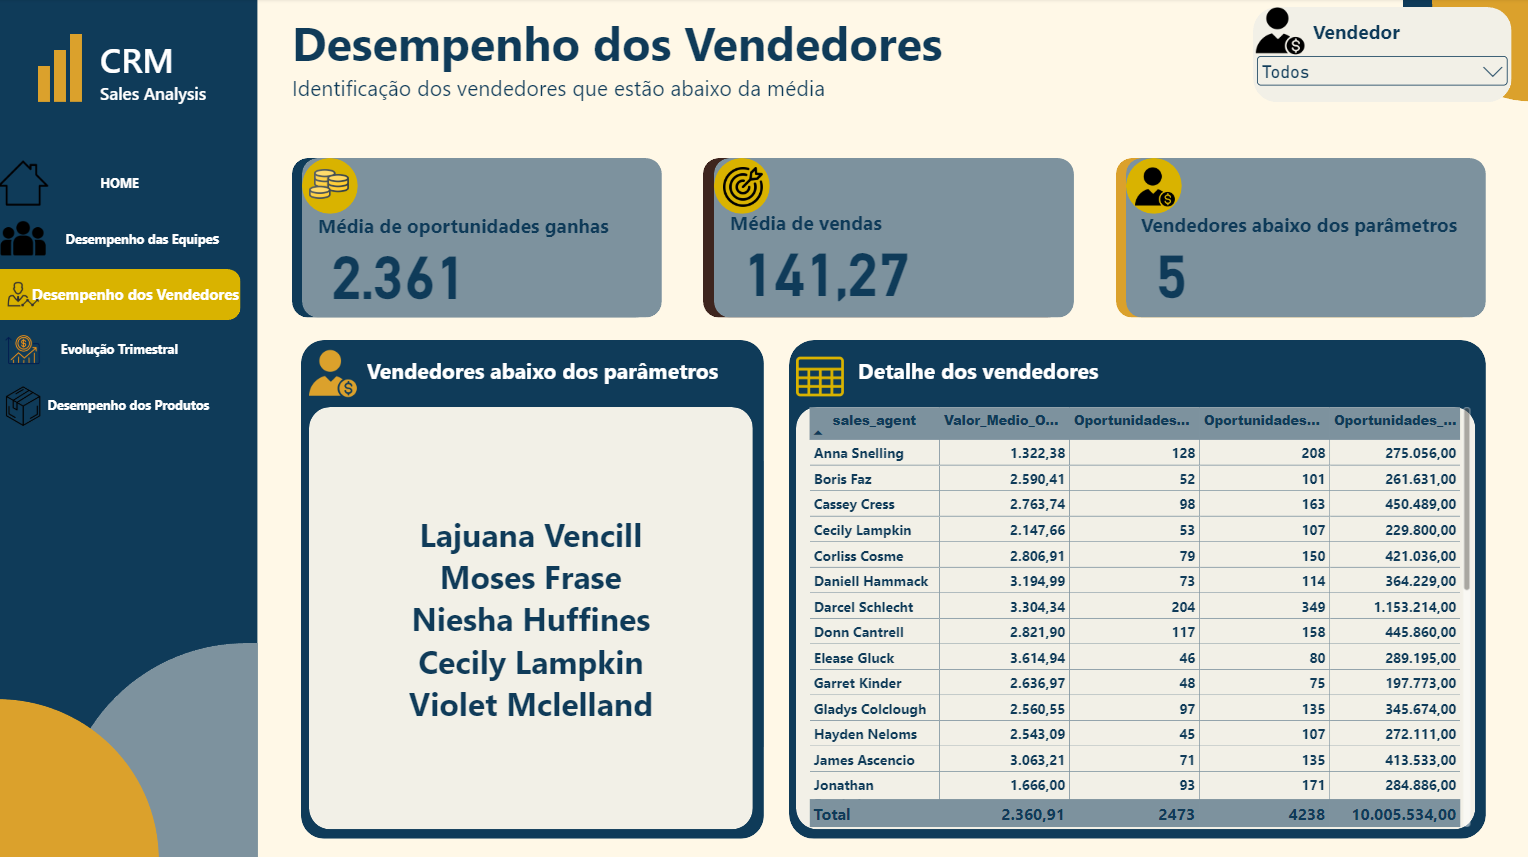

The dashboard page shown, as its layout file describes it:
{"tool":"powerbi","page":{"name":"Desempenho dos Vendedores","canvas":[1920,1080],"ordinal":2},"visuals":[{"type":"shape","box":[0,0,325,1080],"z":0,"group":"g1"},{"type":"group","id":"g1","title":"obj menu","box":[0,0,325,1080],"z":0,"group":"g16"},{"type":"shape","title":"Fundo","box":[0,0,1920,1080],"z":0},{"type":"shape","box":[1761.2,0,159.1,98.7],"z":0,"group":"g8"},{"type":"shape","box":[1572.2,11.8,324.2,119.4],"z":0,"group":"g10"},{"type":"actionButton","box":[0,200,304,64],"z":0,"group":"g5"},{"type":"shape","box":[368,200,450.9,200],"z":0,"group":"g7"},{"type":"shape","box":[883.3,200,451.7,200],"z":0,"group":"g4"},{"type":"group","id":"g2","title":"Vendedores  abaixo","box":[1400.5,200.4,463.2,200.2],"z":0,"group":"g11"},{"type":"shape","box":[1400.5,200.6,450.9,200],"z":0,"group":"g2"},{"type":"image","box":[0,269.7,63.4,63.4],"z":0,"group":"g9"},{"type":"actionButton","box":[0,340,304,64],"z":0,"group":"g12"},{"type":"actionButton","box":[0,410,304,64],"z":0,"group":"g13"},{"type":"shape","box":[380,428.3,580,625],"z":0,"group":"g6"},{"type":"group","id":"g3","title":"Detalhe dos vendedores","box":[991.7,428.3,873.3,625.9],"z":0,"group":"g14"},{"type":"shape","box":[991.7,428.3,873.3,625],"z":0,"group":"g3"},{"type":"actionButton","box":[0,480,304,64],"z":0,"group":"g15"},{"type":"group","id":"g4","title":"Média vendas","box":[883.3,200,464.9,200],"z":500,"group":"g11"},{"type":"shape","box":[1796.5,0,123.8,129.7],"z":1000,"group":"g8"},{"type":"slicer","fields":{"Values":["crm_sales sales_pipeline.sales_agent"]},"box":[1572.2,67.8,324.2,61.9],"z":1000,"group":"g10"},{"type":"shape","box":[50,85,15,45],"z":1000,"group":"g1"},{"type":"group","id":"g5","title":"Home","box":[0,200,304.3,64.6],"z":1000,"group":"g16"},{"type":"shape","box":[380,200,450.9,200],"z":1000,"group":"g7"},{"type":"shape","box":[896.6,200,451,200],"z":1000,"group":"g4"},{"type":"textbox","box":[0,200.6,304.3,64],"z":1000,"group":"g5"},{"type":"shape","box":[1412.8,200.6,450.9,200],"z":1000,"group":"g2"},{"type":"textbox","box":[0,270,304.3,64],"z":1000,"group":"g9"},{"type":"textbox","box":[0,340.4,304.3,64],"z":1000,"group":"g12"},{"type":"textbox","box":[0,410,304.3,64],"z":1000,"group":"g13"},{"type":"group","id":"g6","title":"Vendedores abaixo dos parâmetros","box":[380,428.3,580,625],"z":1000,"group":"g14"},{"type":"textbox","box":[0,480,304.3,64],"z":1000,"group":"g15"},{"type":"shape","box":[390.5,511.7,556.2,529.2],"z":1000,"group":"g6"},{"type":"shape","box":[1000.6,511.7,851.1,529.2],"z":1000,"group":"g3"},{"type":"group","id":"g7","title":"Média oportunidades  ganhas","box":[368,200,463.1,200.8],"z":1500,"group":"g11"},{"type":"group","id":"g8","title":"Título & obg","box":[368.7,0,1551.6,176.9],"z":2000},{"type":"image","box":[1575.1,11.8,63.4,60.4],"z":2000,"group":"g10"},{"type":"textbox","box":[368.7,16.2,1146.4,160.6],"z":2000,"group":"g8"},{"type":"shape","box":[70,65,15,65],"z":2000,"group":"g1"},{"type":"image","box":[0,200.4,63.4,63.4],"z":2000,"group":"g5"},{"type":"shape","box":[380.2,200.4,70,70],"z":2000,"group":"g7"},{"type":"shape","box":[897.3,200.4,70,70],"z":2000,"group":"g4"},{"type":"shape","box":[1413.1,200.4,70,70],"z":2000,"group":"g2"},{"type":"group","id":"g9","title":"Desempenho das equipes","box":[0,269.7,304.3,64.3],"z":2000,"group":"g16"},{"type":"actionButton","box":[0,270,304,64],"z":2000,"group":"g9"},{"type":"image","box":[0,340.4,63.4,63.4],"z":2000,"group":"g12"},{"type":"image","box":[0,409.6,63.4,63.4],"z":2000,"group":"g13"},{"type":"textbox","box":[462.9,448.3,469.4,50.4],"z":2000,"group":"g6"},{"type":"textbox","box":[1078.6,448.3,404.5,63.4],"z":2000,"group":"g3"},{"type":"image","box":[0,480.4,63.4,63.4],"z":2000,"group":"g15"},{"type":"group","id":"g10","title":"Filtro","box":[1572.2,11.8,328.6,119.4],"z":2500},{"type":"textbox","box":[1647.3,25.1,253.4,60.4],"z":3000,"group":"g10"},{"type":"shape","box":[90,45,15,85],"z":3000,"group":"g1"},{"type":"actionButton","box":[0,200,304,64],"z":3000,"group":"g5"},{"type":"group","id":"g11","title":"Cartões","box":[368,200,1495.7,200.8],"z":3000},{"type":"image","box":[389.8,207.9,50,50],"z":3000,"group":"g7"},{"type":"image","box":[908,211.2,50,50],"z":3000,"group":"g4"},{"type":"image","box":[1424.6,211.2,50.4,50.4],"z":3000,"group":"g2"},{"type":"group","id":"g12","title":"Desempenho dos vendedores","box":[0,340,304.3,64.4],"z":3000,"group":"g16"},{"type":"actionButton","box":[0,410,304,64],"z":3000,"group":"g13"},{"type":"image","box":[1000.6,432,60.1,84.5],"z":3000,"group":"g3"},{"type":"actionButton","box":[0,480.4,304,64],"z":3000,"group":"g15"},{"type":"cardVisual","fields":{"Data":["crm_sales sales_pipeline.Abaixo dos Parâmetros"]},"box":[390.5,511.7,556.2,529.2],"z":3000,"group":"g6"},{"type":"textbox","box":[128,48,160,96],"z":4000,"group":"g1"},{"type":"cardVisual","title":"Média de vendas","fields":{"Data":["crm_sales sales_pipeline.Qtd_vendas_por_vendedor"]},"box":[897.3,263.8,450.9,132.6],"z":4000,"group":"g4"},{"type":"cardVisual","title":"Vendedores abaixo dos parâmetros","fields":{"Data":["crm_sales sales_pipeline.Qtd Vendedores Abaixo dos Parâmetros"]},"box":[1411.6,266.4,450.9,132.6],"z":4000,"group":"g2"},{"type":"cardVisual","title":"Média de oportunidades ganhas","fields":{"Data":["crm_sales sales_pipeline.Valor_Medio_Oportunidade_Ganha_Display"]},"box":[380.2,268.2,450.9,132.6],"z":4000,"group":"g7"},{"type":"group","id":"g13","title":"Evolução Trimestral","box":[0,409.6,304.3,64.4],"z":4000,"group":"g16"},{"type":"image","box":[389.8,428.8,60.1,84.5],"z":4000,"group":"g6"},{"type":"tableEx","fields":{"Values":["crm_sales sales_pipeline.sales_agent","crm_sales sales_pipeline.Valor_Medio_Oportunidade_Ganha","crm_sales sales_pipeline.Oportunidades_Perdidas_Qtd","crm_sales sales_pipeline.Oportunidades_Ganhas_Qtd","crm_sales sales_pipeline.Oportunidades_Ganhas"]},"box":[1000.6,498.6,860.9,555.5],"z":4000,"group":"g3"},{"type":"group","id":"g14","title":"Tabelas &  Gráficos","box":[380,428.3,1485,625.9],"z":5000},{"type":"group","id":"g15","title":"Desempenho dos produtos","box":[0,480,304.3,64.4],"z":5000,"group":"g16"},{"type":"shape","box":[78.3,808.3,246.7,271.7],"z":5000,"group":"g1"},{"type":"group","id":"g16","title":"Menu","box":[0,0,325,1080],"z":5500},{"type":"shape","box":[0,878.3,201.7,201.7],"z":6000,"group":"g1"}]}

Visuals, with their boxes in screenshot pixels (x1, y1, x2, y2), scaled from the page's 1920x1080 canvas onto the 1528x857 screenshot:
shape: <bbox>0, 0, 259, 856</bbox>
"obj menu" group: <bbox>0, 0, 259, 856</bbox>
"Fundo" shape: <bbox>0, 0, 1527, 856</bbox>
shape: <bbox>1402, 0, 1527, 78</bbox>
shape: <bbox>1251, 9, 1509, 104</bbox>
actionButton: <bbox>0, 159, 242, 209</bbox>
shape: <bbox>293, 159, 652, 317</bbox>
shape: <bbox>703, 159, 1062, 317</bbox>
"Vendedores  abaixo" group: <bbox>1115, 159, 1483, 318</bbox>
shape: <bbox>1115, 159, 1473, 318</bbox>
image: <bbox>0, 214, 50, 264</bbox>
actionButton: <bbox>0, 270, 242, 321</bbox>
actionButton: <bbox>0, 325, 242, 376</bbox>
shape: <bbox>302, 340, 764, 836</bbox>
"Detalhe dos vendedores" group: <bbox>789, 340, 1484, 837</bbox>
shape: <bbox>789, 340, 1484, 836</bbox>
actionButton: <bbox>0, 381, 242, 432</bbox>
"Média vendas" group: <bbox>703, 159, 1073, 317</bbox>
shape: <bbox>1430, 0, 1527, 103</bbox>
slicer - crm_sales sales_pipeline.sales_agent: <bbox>1251, 54, 1509, 103</bbox>
shape: <bbox>40, 67, 52, 103</bbox>
"Home" group: <bbox>0, 159, 242, 210</bbox>
shape: <bbox>302, 159, 661, 317</bbox>
shape: <bbox>714, 159, 1072, 317</bbox>
textbox: <bbox>0, 159, 242, 210</bbox>
shape: <bbox>1124, 159, 1483, 318</bbox>
textbox: <bbox>0, 214, 242, 265</bbox>
textbox: <bbox>0, 270, 242, 321</bbox>
textbox: <bbox>0, 325, 242, 376</bbox>
"Vendedores abaixo dos parâmetros" group: <bbox>302, 340, 764, 836</bbox>
textbox: <bbox>0, 381, 242, 432</bbox>
shape: <bbox>311, 406, 753, 826</bbox>
shape: <bbox>796, 406, 1474, 826</bbox>
"Média oportunidades  ganhas" group: <bbox>293, 159, 661, 318</bbox>
"Título & obg" group: <bbox>293, 0, 1527, 140</bbox>
image: <bbox>1254, 9, 1304, 57</bbox>
textbox: <bbox>293, 13, 1206, 140</bbox>
shape: <bbox>56, 52, 68, 103</bbox>
image: <bbox>0, 159, 50, 209</bbox>
shape: <bbox>303, 159, 358, 215</bbox>
shape: <bbox>714, 159, 770, 215</bbox>
shape: <bbox>1125, 159, 1180, 215</bbox>
"Desempenho das equipes" group: <bbox>0, 214, 242, 265</bbox>
actionButton: <bbox>0, 214, 242, 265</bbox>
image: <bbox>0, 270, 50, 320</bbox>
image: <bbox>0, 325, 50, 375</bbox>
textbox: <bbox>368, 356, 742, 396</bbox>
textbox: <bbox>858, 356, 1180, 406</bbox>
image: <bbox>0, 381, 50, 432</bbox>
"Filtro" group: <bbox>1251, 9, 1513, 104</bbox>
textbox: <bbox>1311, 20, 1513, 68</bbox>
shape: <bbox>72, 36, 84, 103</bbox>
actionButton: <bbox>0, 159, 242, 209</bbox>
"Cartões" group: <bbox>293, 159, 1483, 318</bbox>
image: <bbox>310, 165, 350, 205</bbox>
image: <bbox>723, 168, 762, 207</bbox>
image: <bbox>1134, 168, 1174, 208</bbox>
"Desempenho dos vendedores" group: <bbox>0, 270, 242, 321</bbox>
actionButton: <bbox>0, 325, 242, 376</bbox>
image: <bbox>796, 343, 844, 410</bbox>
actionButton: <bbox>0, 381, 242, 432</bbox>
cardVisual - crm_sales sales_pipeline.Abaixo dos Parâmetros: <bbox>311, 406, 753, 826</bbox>
textbox: <bbox>102, 38, 229, 114</bbox>
"Média de vendas" cardVisual: <bbox>714, 209, 1073, 315</bbox>
"Vendedores abaixo dos parâmetros" cardVisual: <bbox>1123, 211, 1482, 317</bbox>
"Média de oportunidades ganhas" cardVisual: <bbox>303, 213, 661, 318</bbox>
"Evolução Trimestral" group: <bbox>0, 325, 242, 376</bbox>
image: <bbox>310, 340, 358, 407</bbox>
tableEx - crm_sales sales_pipeline.sales_agent x crm_sales sales_pipeline.Valor_Medio_Oportunidade_Ganha: <bbox>796, 396, 1481, 836</bbox>
"Tabelas &  Gráficos" group: <bbox>302, 340, 1484, 837</bbox>
"Desempenho dos produtos" group: <bbox>0, 381, 242, 432</bbox>
shape: <bbox>62, 641, 259, 856</bbox>
"Menu" group: <bbox>0, 0, 259, 856</bbox>
shape: <bbox>0, 697, 161, 856</bbox>
